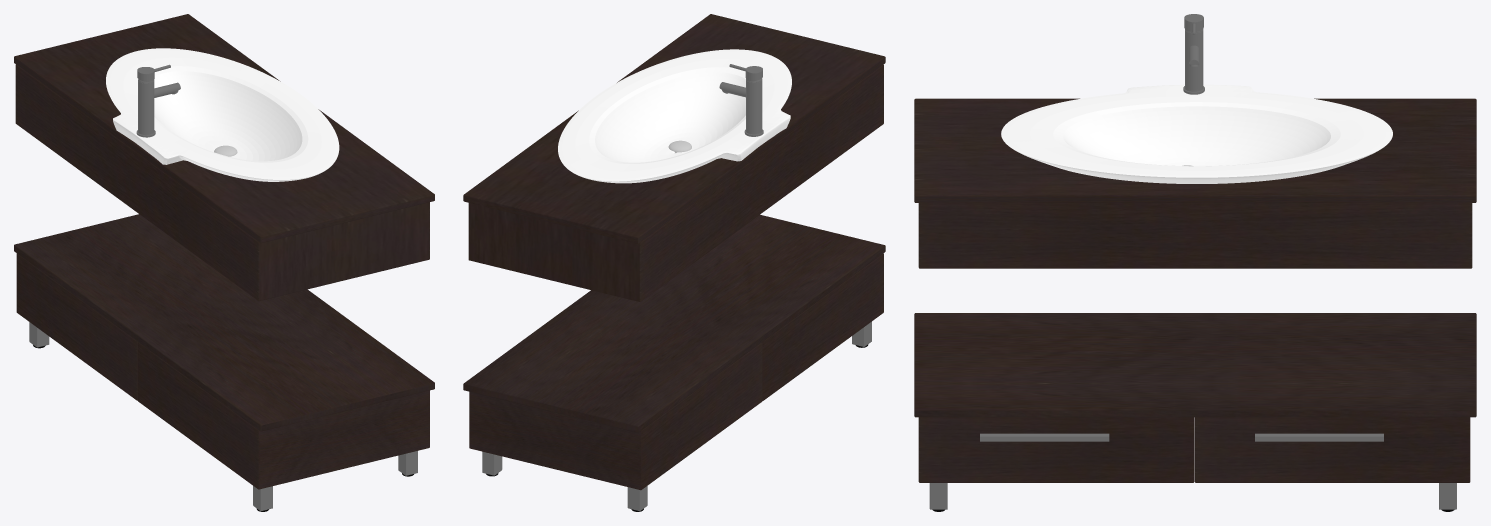
File: RN-8281-MUEBLE-W (1).glb
3 renders of one model, left to right at view 1: azimuth 30°, elevation 25°; view 2: azimuth 150°, elevation 25°; view 3: azimuth 270°, elevation 25°, orthographic. The views are drawn at different scales.
Visible parts, largest first — view 1: ChamferBox002, ChamferBox004, Line001, Cylinder001, ChamferBox006; view 2: ChamferBox002, ChamferBox004, Line001, Cylinder001, ChamferBox006; view 3: ChamferBox002, ChamferBox004, Line001, Box002, Cylinder001, ChamferBox006.
Boxes of the visible parts, x1,y1,x2,y2 form: ChamferBox002: (14,14,434,431); ChamferBox004: (15,64,429,489); Line001: (106,48,339,181); Cylinder001: (136,64,180,137); ChamferBox006: (29,322,417,511); ChamferBox002: (463,14,885,432); ChamferBox004: (468,64,883,490); Line001: (558,49,791,183); Cylinder001: (719,64,763,136); ChamferBox006: (482,321,871,511); ChamferBox002: (914,98,1476,417); ChamferBox004: (918,203,1472,482); Line001: (1001,84,1392,183); Box002: (980,433,1383,441); Cylinder001: (1183,14,1204,94); ChamferBox006: (929,483,1456,509).
Bounding box in the file's own units: 0.5983 × 1.15 × 1.44.
5 materials, 1 textured.
